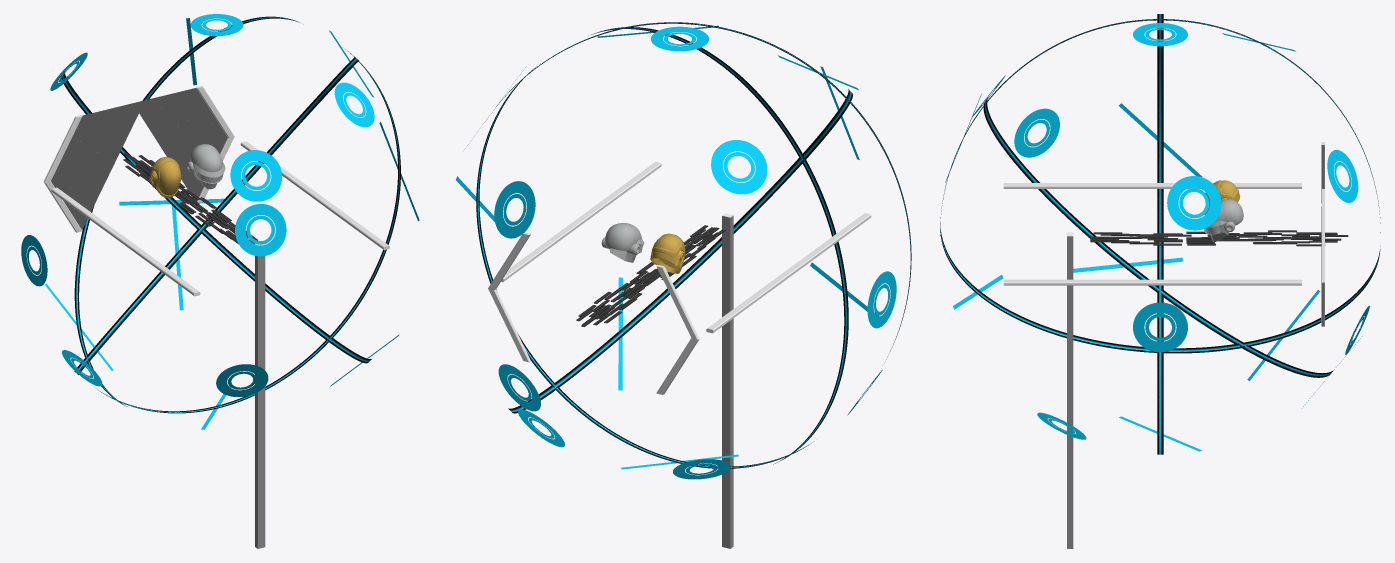
File: daftpunk.glb
3 renders of one model, left to right at view 1: azimuth 30°, elevation 25°; view 2: azimuth 150°, elevation 25°; view 3: azimuth 270°, elevation 25°, orthographic. The views are drawn at different scales.
Visible parts, largest first — view 1: OrbitMesh (×4), DiscOuter (×4), Construction, Helmet (×2), DiscInner (×2), TrisWallConstructionL; view 2: OrbitMesh (×4), Construction, DiscOuter (×3), Helmet (×2), DiscInner, TrisWallConstructionL, TrisWallConstructionRB; view 3: OrbitMesh (×4), DiscOuter (×4), Construction, DiscInner (×2), Helmet.
Boxes of the visible parts, x1=… form: OrbitMesh (×4): x1=61, y1=16, x2=400, y2=413; DiscOuter (×4): x1=216, y1=82, x2=374, y2=396; Construction: x1=255, y1=256, x2=265, y2=548; Helmet (×2): x1=149, y1=144, x2=225, y2=198; DiscInner (×2): x1=236, y1=156, x2=280, y2=250; TrisWallConstructionL: x1=43, y1=115, x2=82, y2=182; OrbitMesh (×4): x1=476, y1=22, x2=911, y2=468; Construction: x1=722, y1=215, x2=733, y2=548; DiscOuter (×3): x1=494, y1=140, x2=896, y2=328; Helmet (×2): x1=601, y1=223, x2=685, y2=273; DiscInner: x1=717, y1=146, x2=761, y2=188; TrisWallConstructionL: x1=656, y1=265, x2=699, y2=339; TrisWallConstructionRB: x1=488, y1=289, x2=530, y2=362; OrbitMesh (×4): x1=940, y1=14, x2=1380, y2=454; DiscOuter (×4): x1=1014, y1=108, x2=1358, y2=352; Construction: x1=1067, y1=236, x2=1073, y2=548; DiscInner (×2): x1=1139, y1=182, x2=1215, y2=346; Helmet: x1=1204, y1=199, x2=1243, y2=242.
Size of the model in its own units: 144 by 185 by 144.
Materials: 17 (11 with a texture image).
